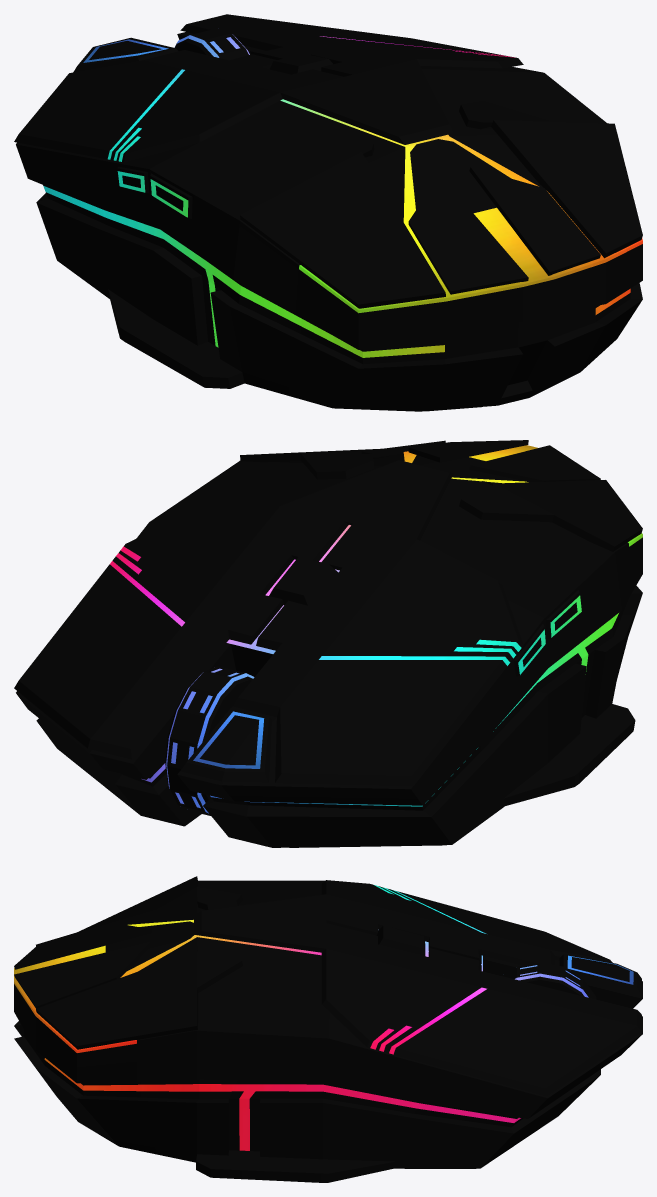
The model's file is mouse.glb.
3 views of the same model, one above another, from view 1: azimuth 30°, elevation 25°; view 2: azimuth 150°, elevation 25°; view 3: azimuth 270°, elevation 25° (orthographic). The views are drawn at different scales.
Visible parts, largest first — view 1: Cube.001_3; view 2: Cube.001_3; view 3: Cube.001_3.
Part boxes in pixels (x1=…): Cube.001_3: x1=14, y1=14, x2=642, y2=411; Cube.001_3: x1=14, y1=440, x2=642, y2=847; Cube.001_3: x1=14, y1=876, x2=642, y2=1182.
Size of the model in its own units: 0.0818 by 0.0362 by 0.1196.
3 materials, 1 textured.
